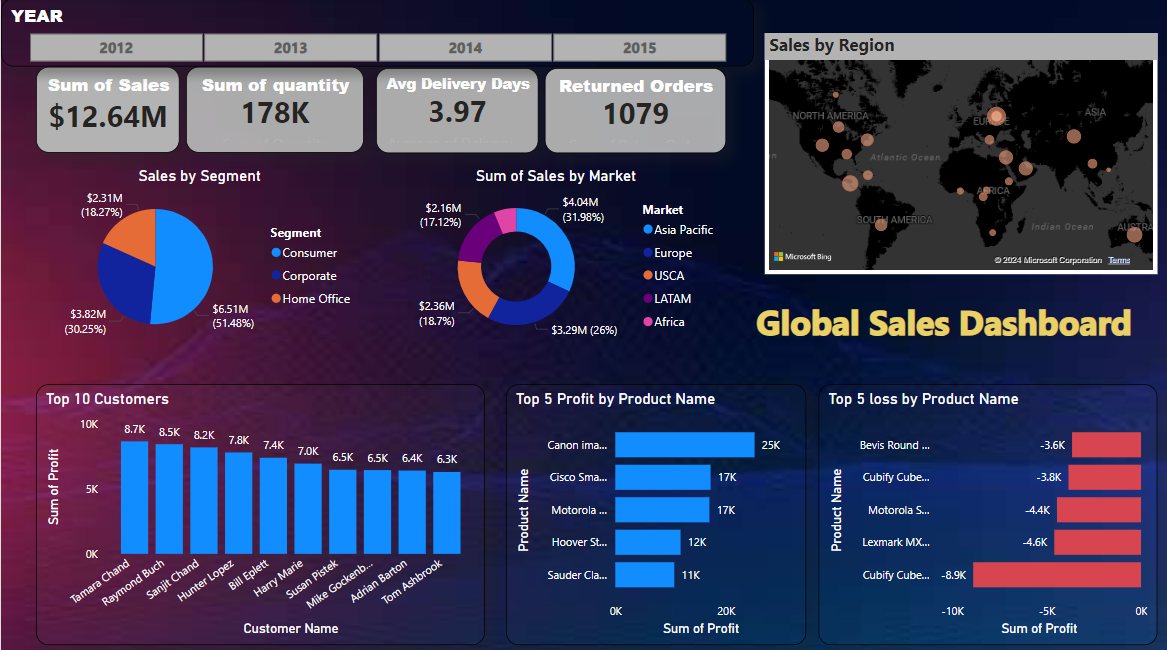

The page's visual inventory and layout, read from the dashboard file:
{"tool":"powerbi","page":{"name":"Page 1","canvas":[1280,720],"ordinal":0},"visuals":[{"type":"card","title":"Sum of Sales","fields":{"Values":["Orders.Sales"]},"box":[38.4,75.5,157.8,94.7],"z":0},{"type":"card","title":"Sum of quantity ","fields":{"Values":["Orders.Quantity"]},"box":[203.1,75.5,194.9,94.7],"z":1000},{"type":"card","title":"Avg Delivery Days","fields":{"Values":["Orders.Delivery Days"]},"box":[411.7,76.8,178.4,93.3],"z":2000},{"type":"slicer","title":"YEAR","fields":{"Values":["Orders.Year"]},"box":[0,0,826.1,75.5],"z":3000},{"type":"card","title":"Returned Orders","fields":{"Values":["Returns.Return Order"]},"box":[596.9,76.8,199,93.3],"z":4000},{"type":"map","title":"Sales by Region","fields":{"Size":["Orders.Sales"],"Category":["Orders.Region"]},"box":[838.4,38.4,430.9,264.8],"z":5000},{"type":"barChart","title":"Top 5 Profit by Product Name","fields":{"Category":["Orders.Product Name"],"Y":["Orders.Profit"]},"box":[554.4,424,329.3,286.8],"z":6000},{"type":"barChart","title":"Top 5 loss by Product Name","fields":{"Category":["Orders.Product Name"],"Y":["Orders.Profit"]},"box":[897.4,424,371.9,286.8],"z":6001},{"type":"pieChart","title":" Sales by Segment","fields":{"Category":["Orders.Segment"],"Y":["Orders.Sales"]},"box":[38.4,185.2,359.5,200.3],"z":6002},{"type":"donutChart","fields":{"Y":["Orders.Sales"],"Category":["Orders.Market"]},"box":[422.6,185.2,373.2,200.3],"z":6003},{"type":"columnChart","title":"Top 10 Customers","fields":{"Y":["Orders.Profit"],"Category":["Orders.Customer Name"]},"box":[38.4,424,492.6,286.8],"z":6004},{"type":"textbox","box":[813.7,325.2,443.2,68.6],"z":6005}]}

Visuals, with their boxes in screenshot pixels (x1, y1, x2, y2), scaled from the page's 1280x720 canvas onto the 1167x650 screenshot:
"Sum of Sales" card: left=35, top=68, right=179, bottom=154
"Sum of quantity " card: left=185, top=68, right=363, bottom=154
"Avg Delivery Days" card: left=375, top=69, right=538, bottom=154
"YEAR" slicer: left=0, top=0, right=753, bottom=68
"Returned Orders" card: left=544, top=69, right=726, bottom=154
"Sales by Region" map: left=764, top=35, right=1157, bottom=274
"Top 5 Profit by Product Name" barChart: left=505, top=383, right=806, bottom=642
"Top 5 loss by Product Name" barChart: left=818, top=383, right=1157, bottom=642
" Sales by Segment" pieChart: left=35, top=167, right=363, bottom=348
donutChart - Orders.Sales x Orders.Market: left=385, top=167, right=726, bottom=348
"Top 10 Customers" columnChart: left=35, top=383, right=484, bottom=642
textbox: left=742, top=294, right=1146, bottom=356
